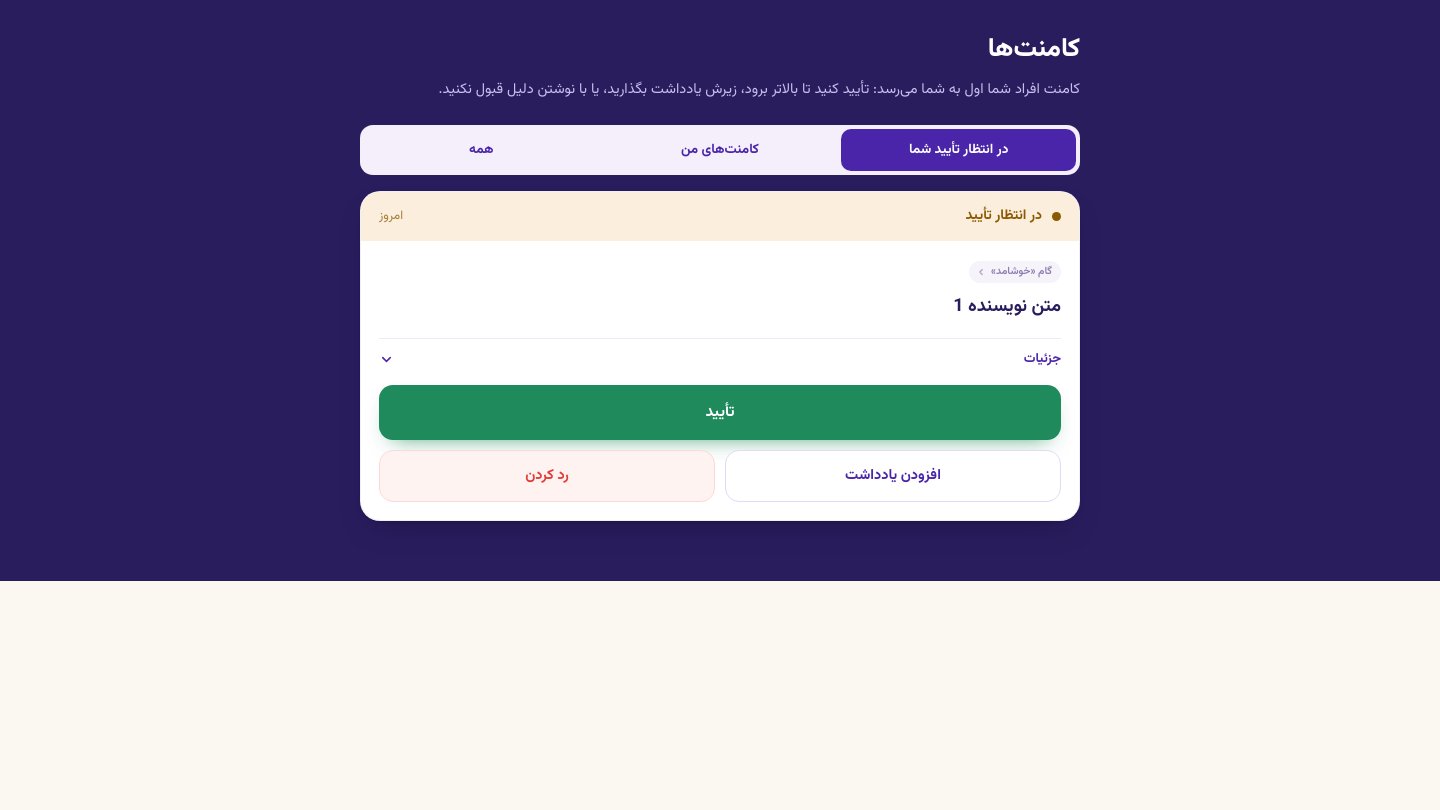
Test: reader inbox › approves with a note: posts {note} only after the modal’s «تأیید می‌کنم»
Click the button "افزودن یادداشت". click: x=893, y=476
box: [725,450,1061,502]
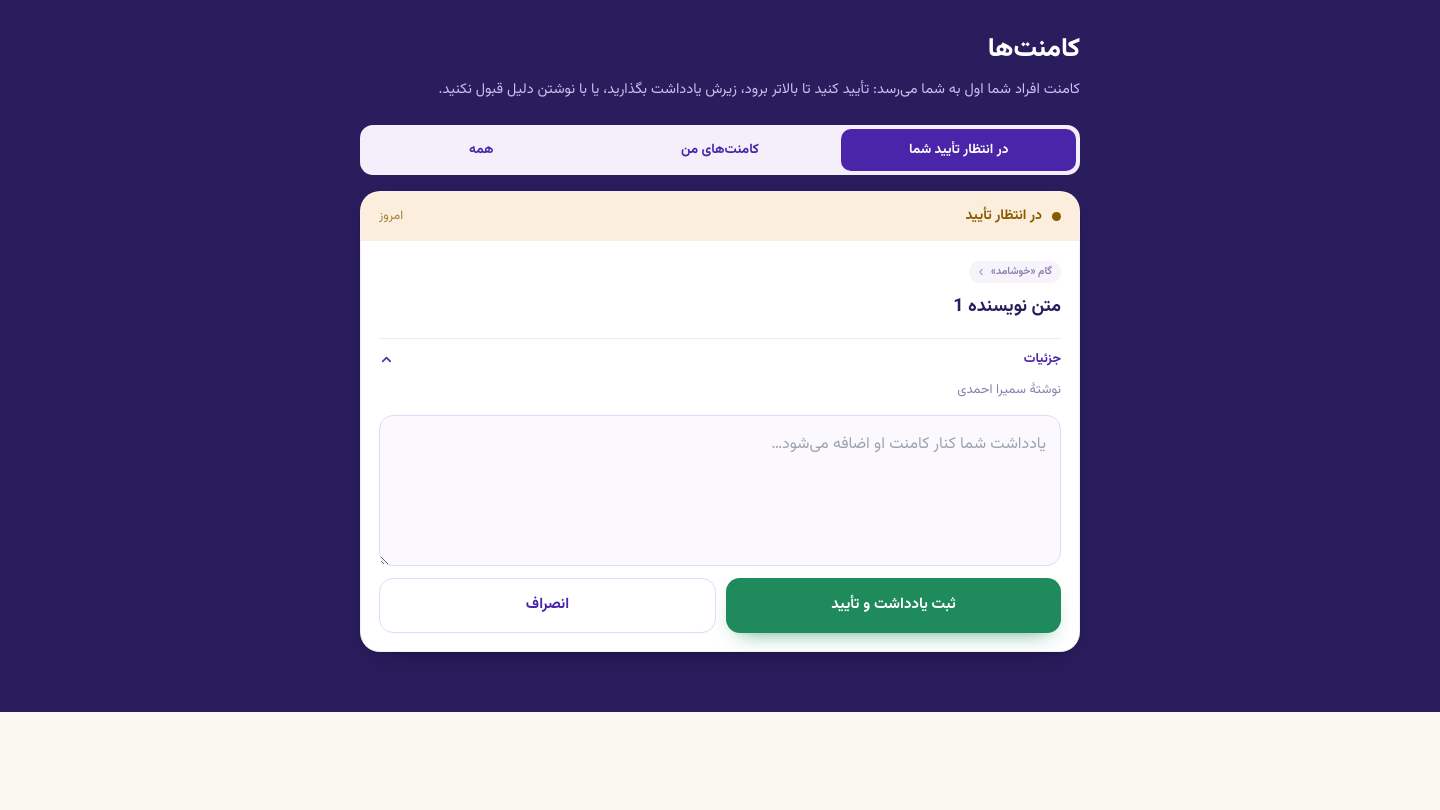
Type "یک نکته" into the text box with placeholder "یادداشت شما کنار کامنت او اضافه می‌شود…". click: x=720, y=490
box: [379,415,1061,566]
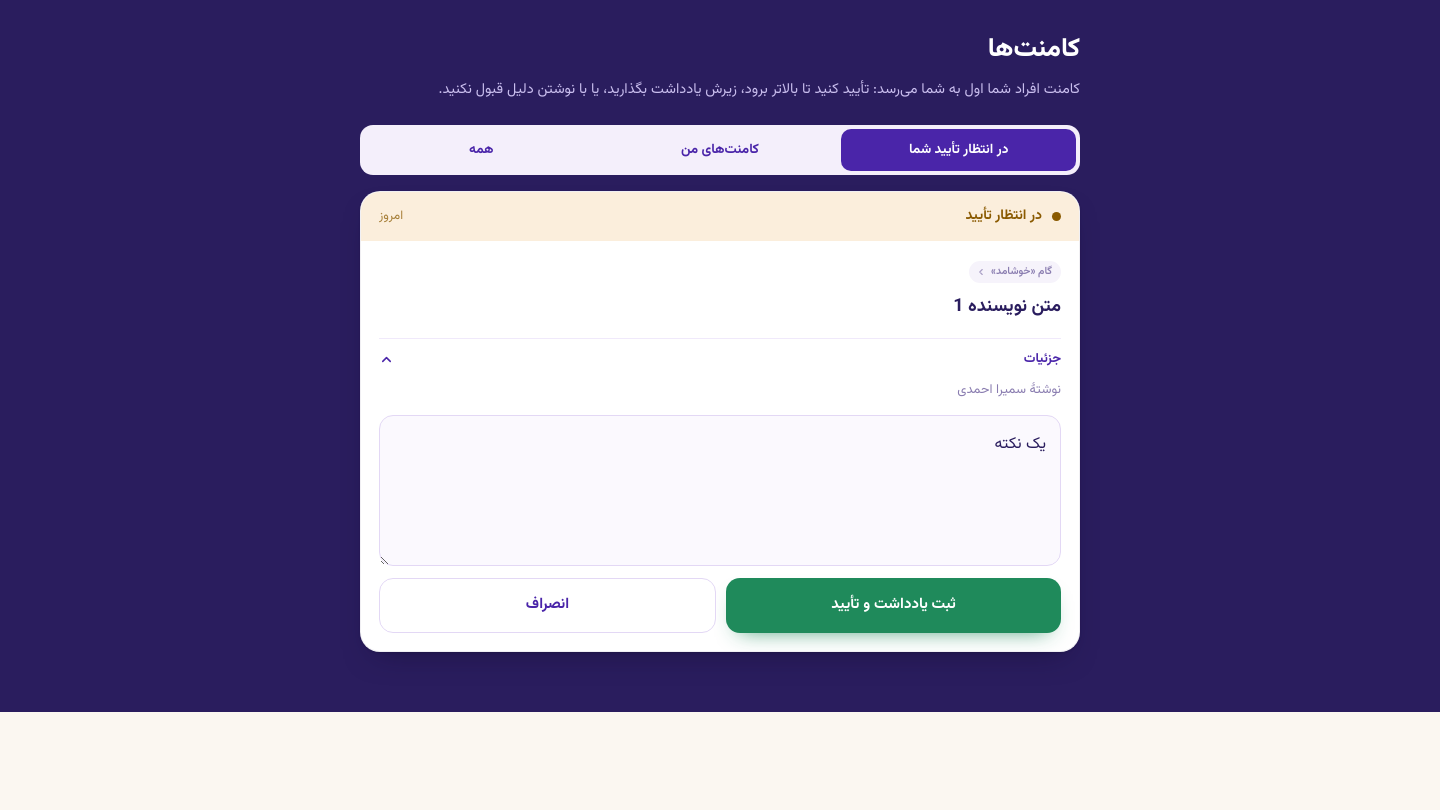
Click the button "ثبت یادداشت و تأیید". click: x=894, y=606
box: [726,578,1061,633]
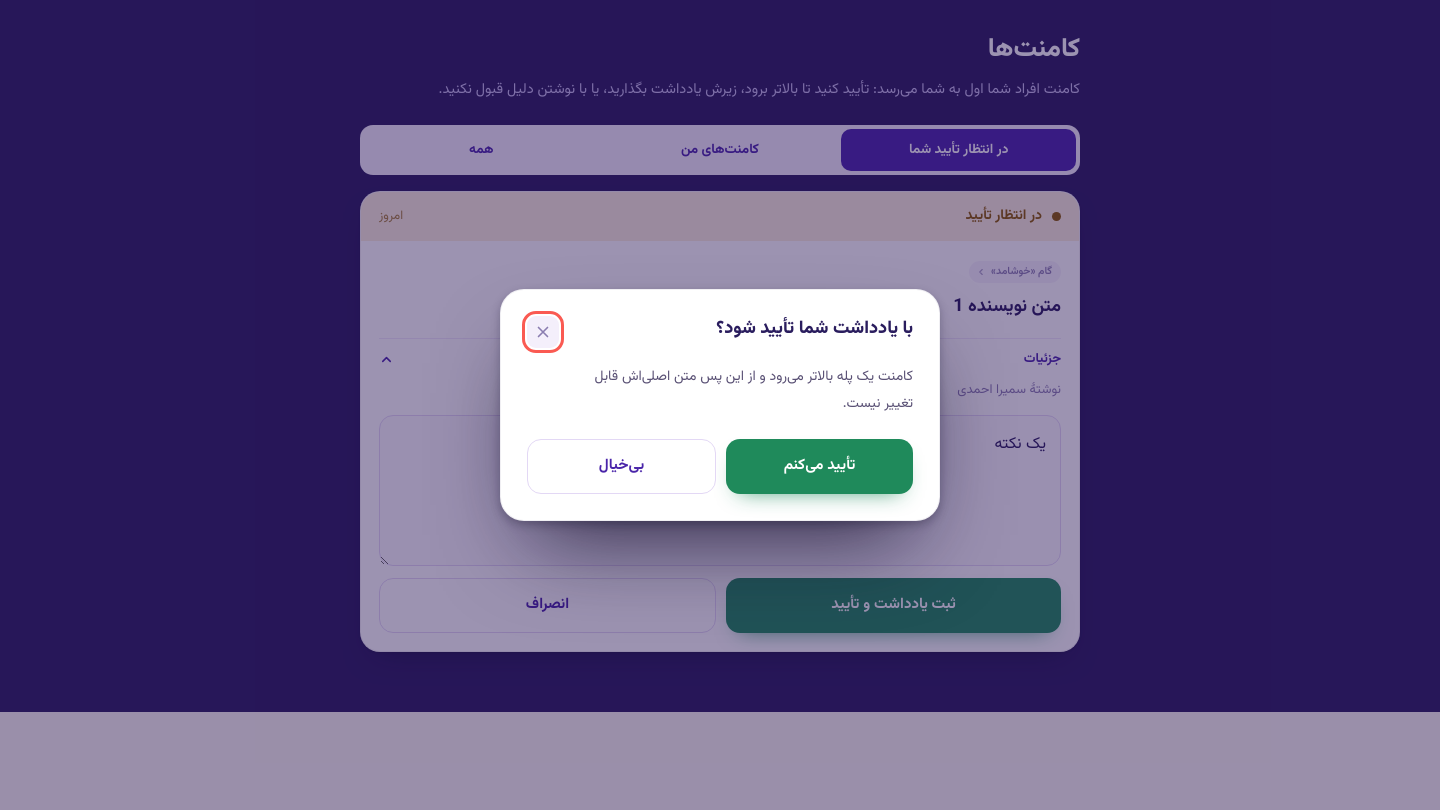
Click the button "تأیید می‌کنم". click: x=820, y=467
box: [726,439,913,494]
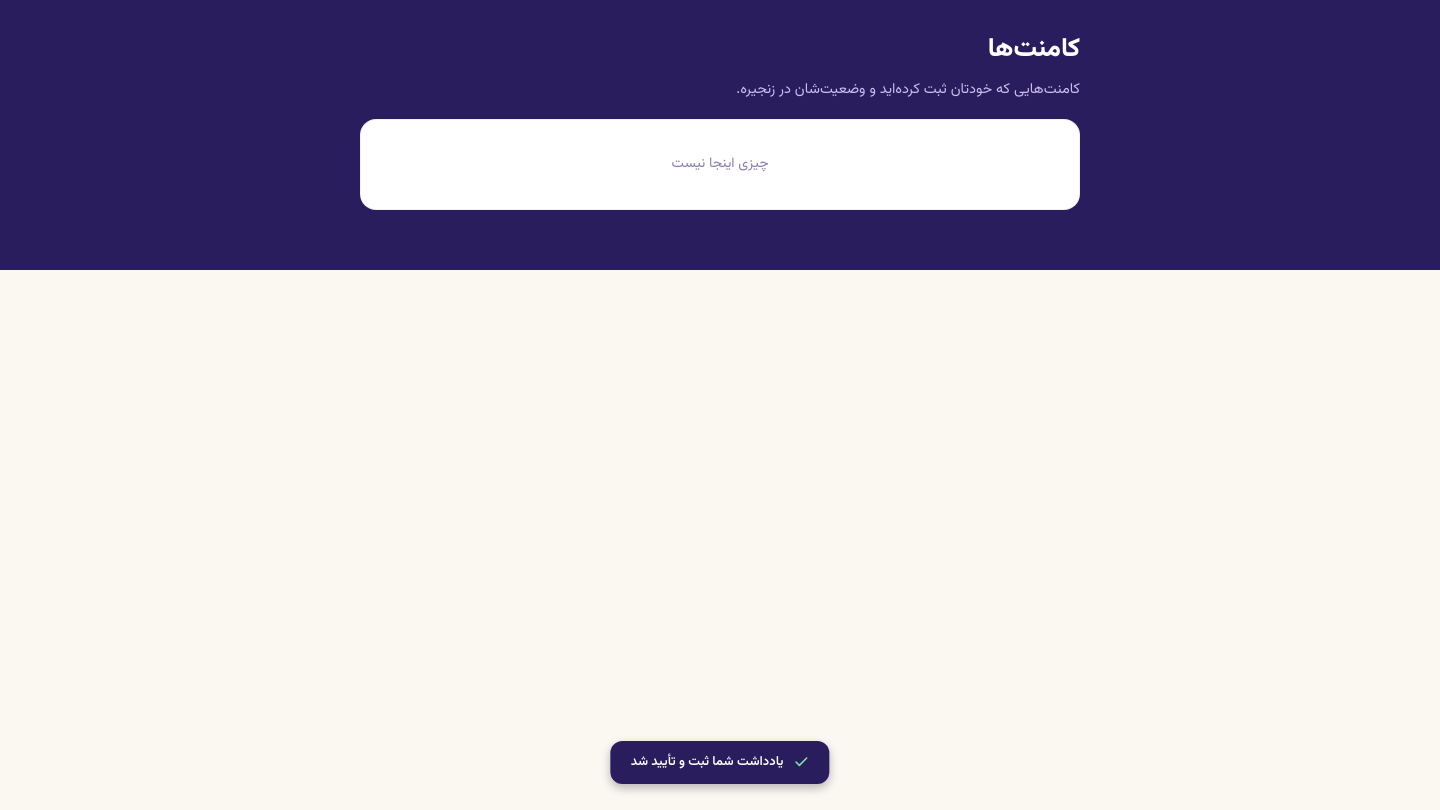
Now the text "یادداشت شما ثبت و تأیید شد" is shown, box [611,740,829,784]
